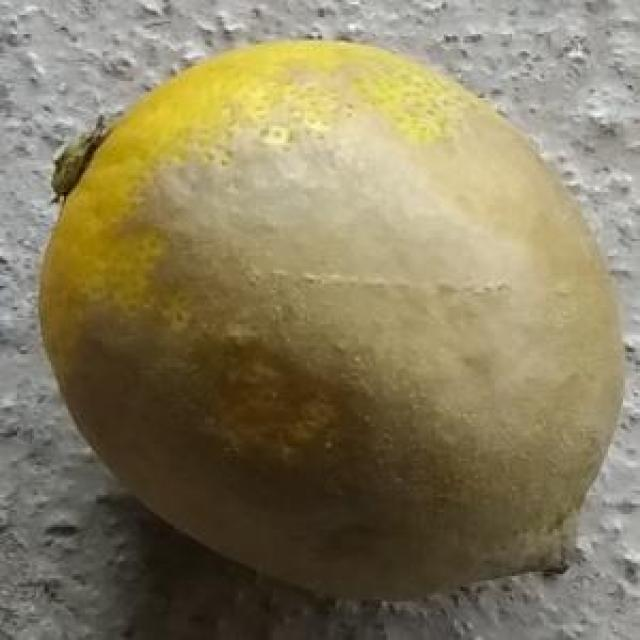lemon: (38, 34, 630, 593)
